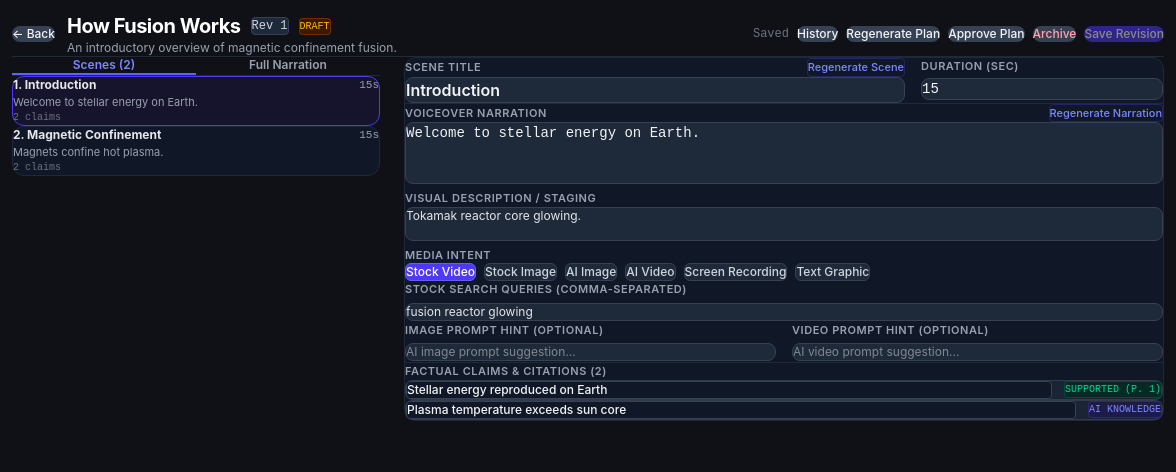
it: ContentPlanEditor Component › displays conflict error alert when save returns content_plan_revision_conflict
Replace the text in the text box showing "Welcome to stellar energy on Earth." below "Voiceover Narration" with "New text": point(784, 153) [405,122,1163,184]
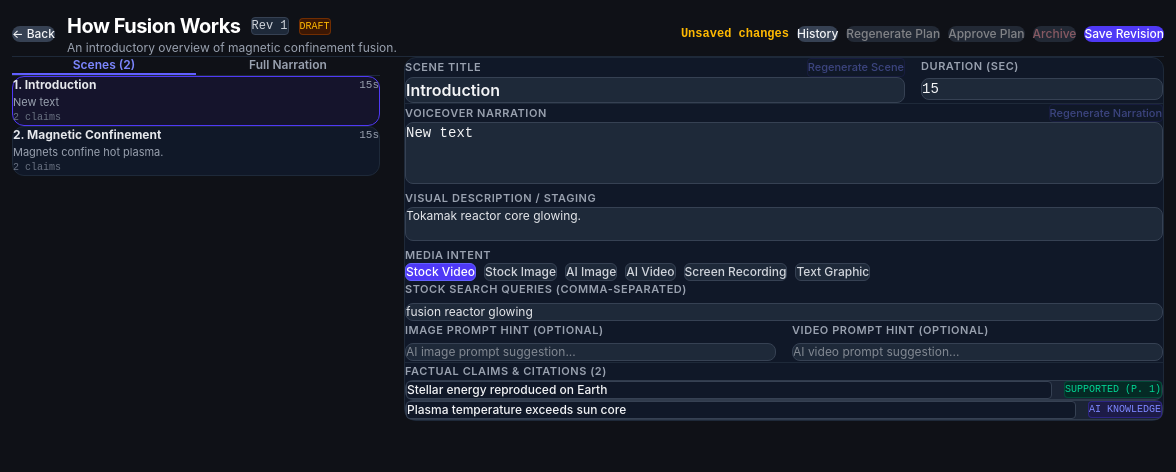
Click the button "Save Revision": point(1124, 34) [1084,26,1164,42]
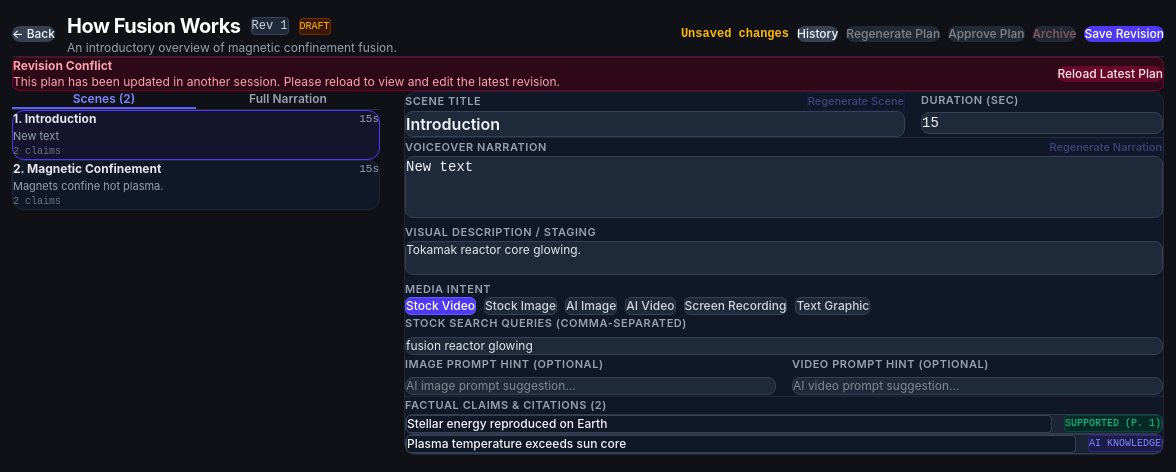
Expected: the text "Revision Conflict" is shown, [13,58,112,73]
